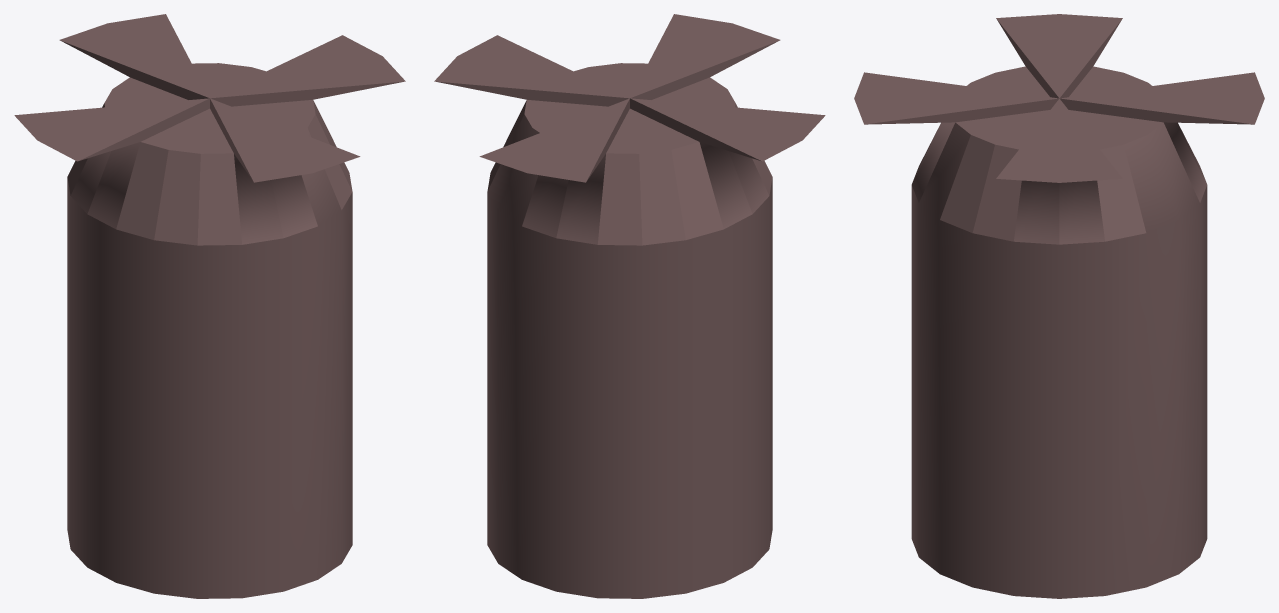
File: CogAcc.fbx
3 renders of one model, left to right at view 1: azimuth 30°, elevation 25°; view 2: azimuth 150°, elevation 25°; view 3: azimuth 270°, elevation 25°, orthographic.
Parts seen in each view (by area): view 1: pCylinder1; view 2: pCylinder1; view 3: pCylinder1.
Boxes of the visible parts, x1=… form: pCylinder1: x1=14, y1=14, x2=405, y2=598; pCylinder1: x1=434, y1=14, x2=825, y2=598; pCylinder1: x1=854, y1=14, x2=1264, y2=598.
Size of the model in its own units: 3.48 by 4.23 by 3.57.
